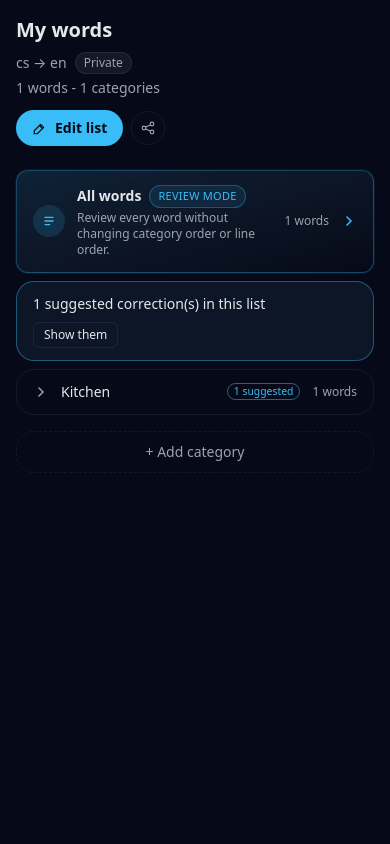
it: a failed accept or dismiss › keeps the suggestion on screen when the server rejects it
Expected: the text "1 suggested correction(s) in this list" is shown, [33,294,265,314]
Click the button "Show them".
click(76, 334)  # box [33,322,118,348]
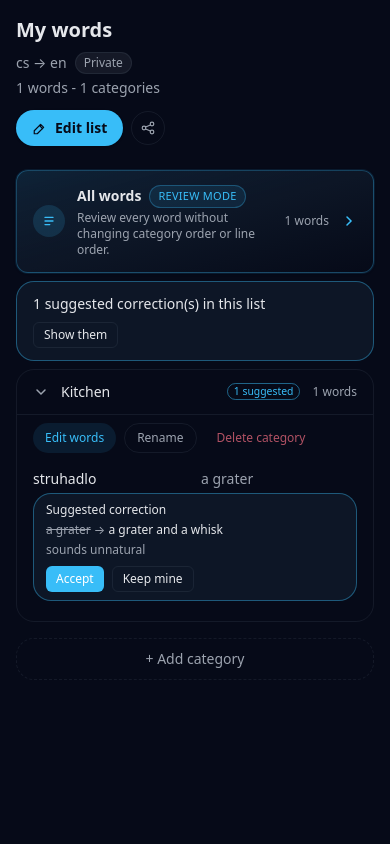
Click the button "Accept".
click(75, 578)  # box [46,566,104,592]
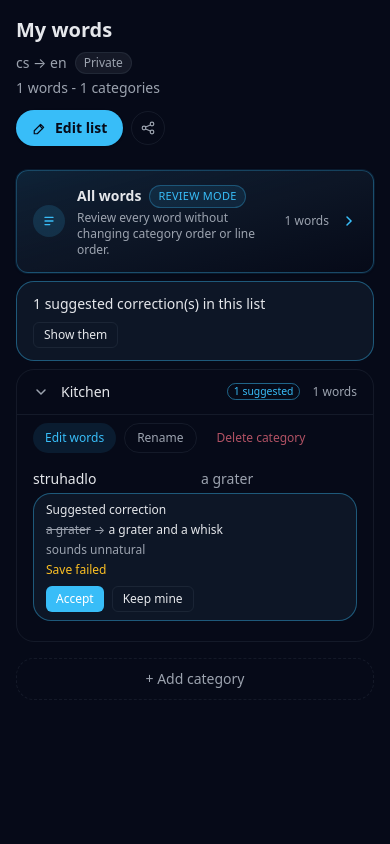
Now the button "Accept" is shown, box [46,586,104,612]
Now the text "Save failed" is shown, box [46,560,106,578]
